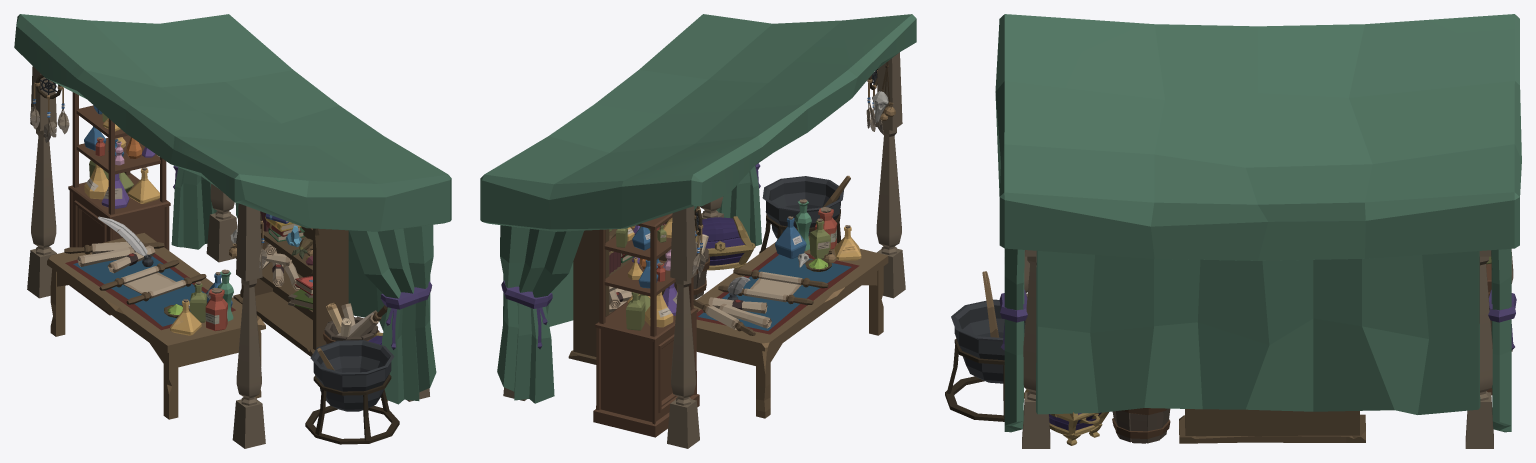
File: SM_Prop_Market_Stall_07.glb
The picture shows the model from 3 angles, left to right: view 1: azimuth 30°, elevation 25°; view 2: azimuth 150°, elevation 25°; view 3: azimuth 270°, elevation 25°; orthographic projection. The views are drawn at different scales.
Parts seen in each view (by area): view 1: SM_Prop_Market_Stall_07, SM_Prop_Market_Stall_07_Dressing; view 2: SM_Prop_Market_Stall_07, SM_Prop_Market_Stall_07_Dressing; view 3: SM_Prop_Market_Stall_07, SM_Prop_Market_Stall_07_Dressing.
Part boxes in pixels (<box>): SM_Prop_Market_Stall_07: <box>14,14,451,448</box>; SM_Prop_Market_Stall_07_Dressing: <box>30,74,399,444</box>; SM_Prop_Market_Stall_07: <box>480,14,916,448</box>; SM_Prop_Market_Stall_07_Dressing: <box>568,61,895,437</box>; SM_Prop_Market_Stall_07: <box>995,14,1521,448</box>; SM_Prop_Market_Stall_07_Dressing: <box>945,256,1492,445</box>.
Bounding box in the file's own units: 2.61 × 2.87 × 4.65.
Materials: 1 (1 with a texture image).
